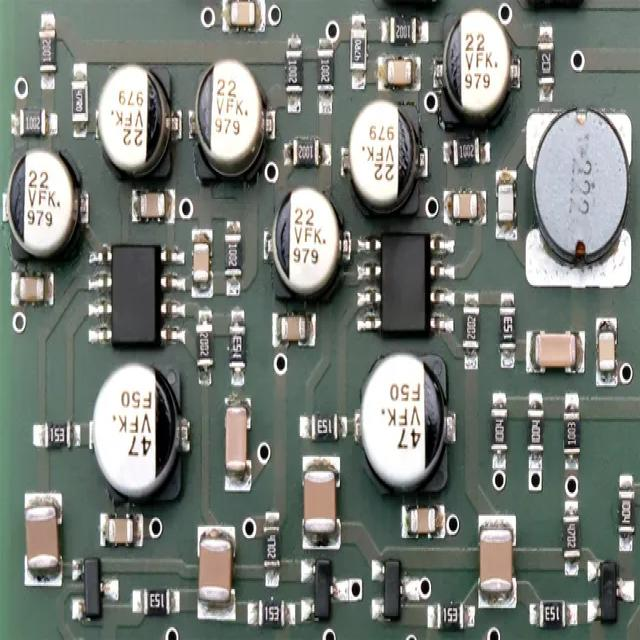4439: (376, 553, 407, 623), (76, 554, 107, 620), (596, 556, 626, 622), (308, 554, 338, 618)
IC: (370, 232, 440, 336)
capacitor 1V5: (89, 359, 183, 502), (354, 354, 448, 484), (98, 54, 175, 178), (192, 53, 266, 181), (438, 4, 513, 122), (265, 185, 341, 300), (343, 98, 420, 211), (7, 143, 74, 257), (473, 514, 513, 602), (303, 461, 339, 551), (198, 532, 234, 622), (21, 497, 58, 578), (221, 402, 253, 486), (527, 331, 585, 374), (595, 320, 619, 386), (10, 274, 56, 305), (272, 316, 312, 349), (405, 505, 442, 539), (136, 189, 174, 222), (495, 174, 516, 232), (229, 2, 264, 34), (382, 58, 416, 90), (191, 240, 213, 289), (103, 514, 138, 544), (452, 191, 481, 221)
inductor F1: (530, 98, 627, 291)
resistor IR1: (451, 137, 486, 171), (290, 134, 321, 171), (533, 36, 553, 92), (534, 596, 565, 631), (317, 47, 336, 102), (138, 584, 170, 616), (39, 22, 59, 73), (261, 521, 282, 569), (44, 418, 72, 453), (618, 488, 636, 542), (487, 404, 508, 450), (564, 403, 582, 456), (306, 413, 338, 442), (286, 44, 303, 98), (383, 18, 420, 41), (19, 107, 50, 134), (434, 605, 464, 632), (497, 302, 515, 346), (352, 23, 366, 79), (526, 408, 546, 446), (464, 304, 480, 350), (230, 319, 243, 369), (71, 79, 87, 119), (260, 602, 288, 624), (197, 323, 212, 364), (225, 230, 238, 275), (565, 516, 577, 558)
